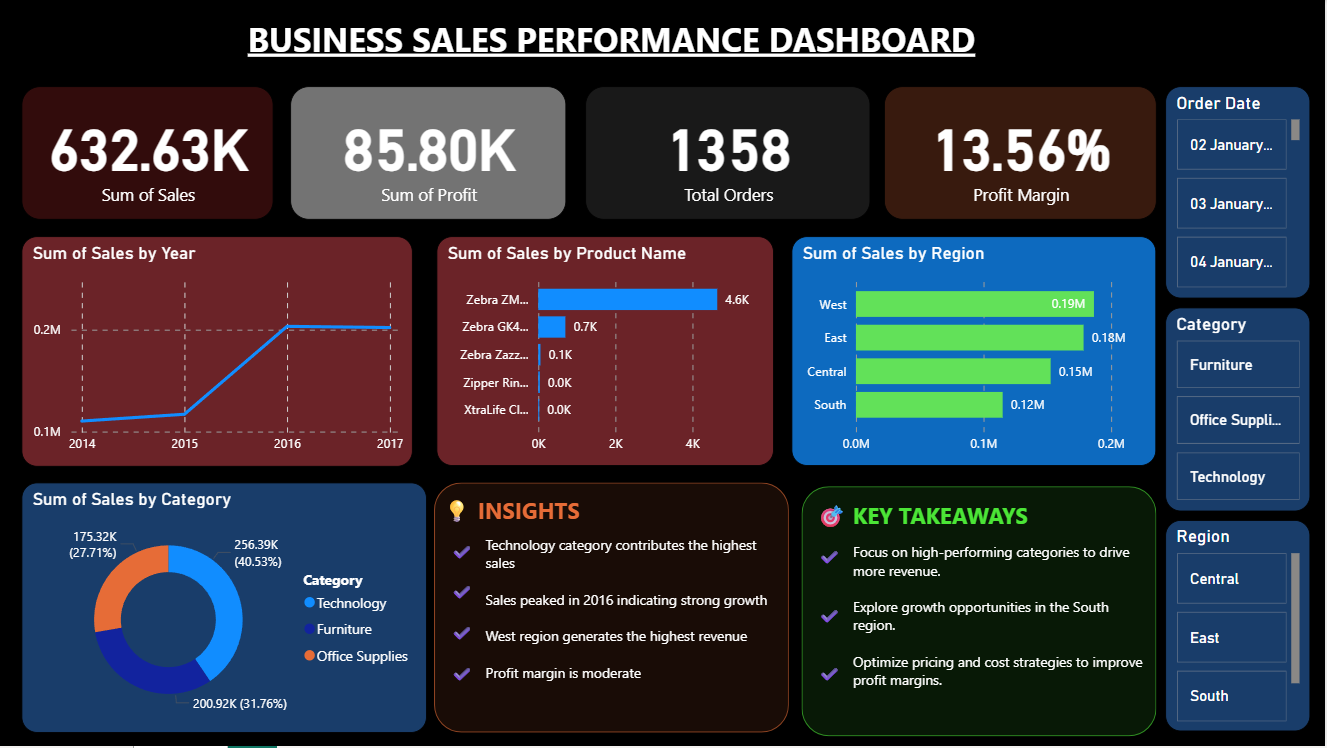

Layout of this report page (visuals, bound fields, positions):
{"tool":"powerbi","page":{"name":"Page 1","canvas":[1280,720],"ordinal":0},"visuals":[{"type":"lineChart","fields":{"Category":["Sample - Superstore.Order Date.Variation.Date Hierarchy.Year","Sample - Superstore.Order Date.Variation.Date Hierarchy.Quarter","Sample - Superstore.Order Date.Variation.Date Hierarchy.Month","Sample - Superstore.Order Date.Variation.Date Hierarchy.Day"],"Y":["Sum(Sample - Superstore.Sales)"]},"box":[22,227.8,377.4,222.3],"z":0},{"type":"barChart","fields":{"Category":["Sample - Superstore.Product Name"],"Y":["Sum(Sample - Superstore.Sales)"]},"box":[422.3,228,325.7,222],"z":1000},{"type":"barChart","fields":{"Category":["Sample - Superstore.Region"],"Y":["Sum(Sample - Superstore.Sales)"]},"box":[764.9,228,352.3,222],"z":2000},{"type":"advancedSlicerVisual","fields":{"Values":["Sample - Superstore.Category"]},"box":[1125.6,296.8,139.9,196.6],"z":3000},{"type":"advancedSlicerVisual","fields":{"Values":["Sample - Superstore.Region"]},"box":[1125.6,501.9,139.9,203.9],"z":4000},{"type":"card","fields":{"Values":["Sum(Sample - Superstore.Sales)"]},"box":[22,83.7,242.9,129],"z":5000},{"type":"donutChart","fields":{"Category":["Sample - Superstore.Category"],"Y":["Sum(Sample - Superstore.Sales)"]},"box":[22,465.2,391.1,241.5],"z":6000},{"type":"card","fields":{"Values":["Sum(Sample - Superstore.Profit)"]},"box":[281.3,83.7,266.2,129],"z":7000},{"type":"card","fields":{"Values":["Sample - Superstore.Total Orders"]},"box":[565.8,83.2,275.1,129.1],"z":8000},{"type":"card","fields":{"Values":["Sample - Superstore.Profit Margin"]},"box":[854.2,83.2,263,129.1],"z":9000},{"type":"advancedSlicerVisual","fields":{"Values":["Sample - Superstore.Order Date"]},"box":[1125.6,83.2,139.9,205.1],"z":10000},{"type":"shape","box":[420.1,465.7,342.6,241.3],"z":11000,"group":"g2"},{"type":"group","id":"g1","title":"Group 2","box":[774.5,469.3,342.6,241.3],"z":11000},{"type":"shape","box":[774.5,469.3,342.6,241.3],"z":11000,"group":"g1"},{"type":"group","id":"g2","title":"Group 1","box":[420.1,465.7,342.6,241.3],"z":12000},{"type":"textbox","title":"💡  INSIGHTS","box":[422.3,472.9,249.7,41],"z":12000,"group":"g2"},{"type":"textbox","title":"💡  INSIGHTS","box":[784.2,477.7,249.7,41],"z":12000,"group":"g1"},{"type":"textbox","box":[90.5,10.9,1001.3,56.7],"z":13000},{"type":"textbox","title":"💡  INSIGHTS","box":[464.5,511.5,298,181],"z":13000,"group":"g2"},{"type":"textbox","title":"💡  INSIGHTS","box":[819.1,518.8,298,181],"z":13000,"group":"g1"},{"type":"textbox","title":"💡  INSIGHTS","box":[430.7,514,33.8,172.5],"z":14000,"group":"g2"},{"type":"textbox","title":"💡  INSIGHTS","box":[785.4,518.8,33.8,172.5],"z":14000,"group":"g1"}]}

Visuals, with their boxes in screenshot pixels (x1, y1, x2, y2), scaled from the page's 1280x720 canvas onto the 1327x748 screenshot:
lineChart - Sample - Superstore.Order Date.Variation.Date Hierarchy.Year x Sample - Superstore.Order Date.Variation.Date Hierarchy.Quarter: bbox=[23, 237, 414, 468]
barChart - Sample - Superstore.Product Name x Sum(Sample - Superstore.Sales): bbox=[438, 237, 775, 468]
barChart - Sample - Superstore.Region x Sum(Sample - Superstore.Sales): bbox=[793, 237, 1158, 468]
advancedSlicerVisual - Sample - Superstore.Category: bbox=[1167, 308, 1312, 513]
advancedSlicerVisual - Sample - Superstore.Region: bbox=[1167, 521, 1312, 733]
card - Sum(Sample - Superstore.Sales): bbox=[23, 87, 275, 221]
donutChart - Sample - Superstore.Category x Sum(Sample - Superstore.Sales): bbox=[23, 483, 428, 734]
card - Sum(Sample - Superstore.Profit): bbox=[292, 87, 568, 221]
card - Sample - Superstore.Total Orders: bbox=[587, 86, 872, 221]
card - Sample - Superstore.Profit Margin: bbox=[886, 86, 1158, 221]
advancedSlicerVisual - Sample - Superstore.Order Date: bbox=[1167, 86, 1312, 300]
shape: bbox=[436, 484, 791, 734]
"Group 2" group: bbox=[803, 488, 1158, 738]
shape: bbox=[803, 488, 1158, 738]
"Group 1" group: bbox=[436, 484, 791, 734]
"💡  INSIGHTS" textbox: bbox=[438, 491, 697, 534]
"💡  INSIGHTS" textbox: bbox=[813, 496, 1072, 539]
textbox: bbox=[94, 11, 1132, 70]
"💡  INSIGHTS" textbox: bbox=[482, 531, 790, 719]
"💡  INSIGHTS" textbox: bbox=[849, 539, 1158, 727]
"💡  INSIGHTS" textbox: bbox=[447, 534, 482, 713]
"💡  INSIGHTS" textbox: bbox=[814, 539, 849, 718]
